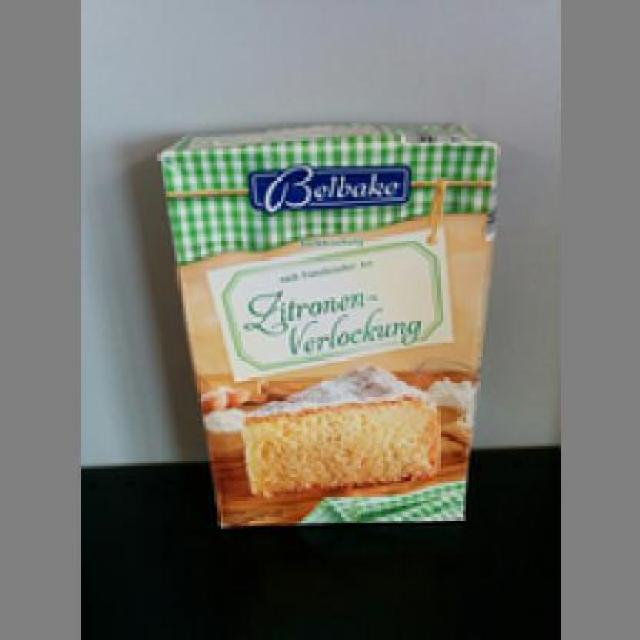Cake: (151, 123, 500, 532)
